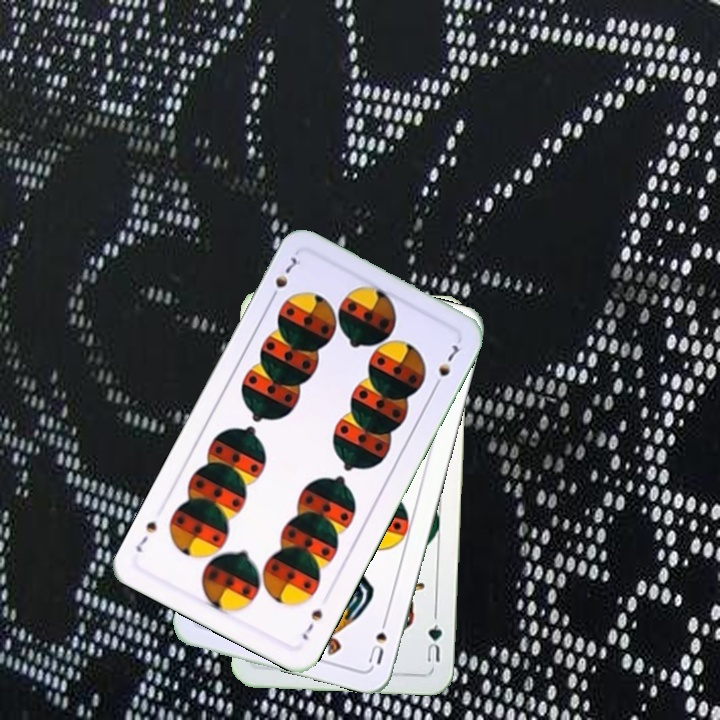GU: (423, 618, 445, 665)
S7: (265, 252, 304, 304), (298, 605, 326, 643)
SU: (364, 610, 391, 667)
